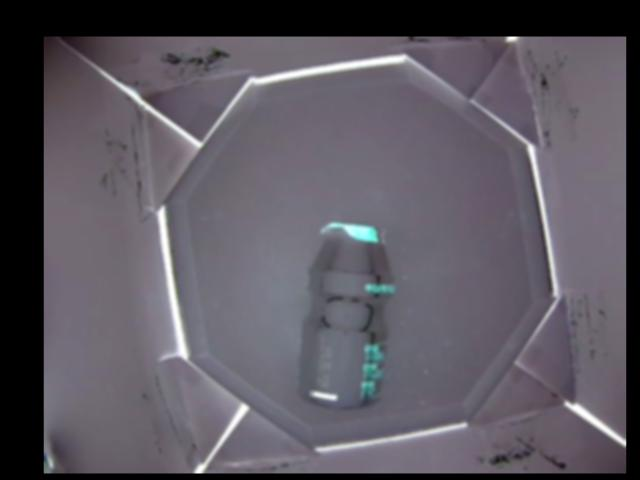Bottle: (294, 223, 397, 408)
